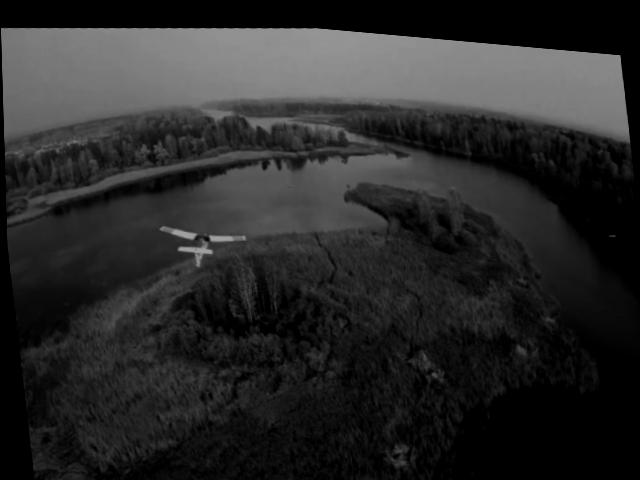hedef: (149, 209, 255, 279)
